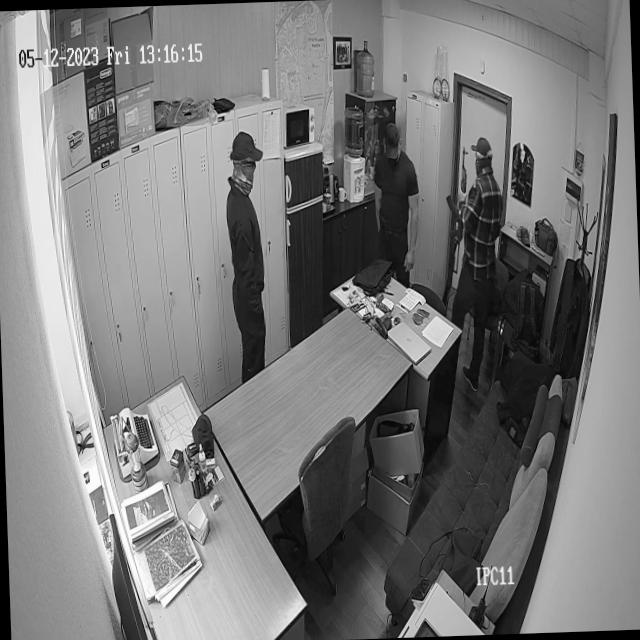gun: (446, 140, 473, 281)
person: (227, 124, 264, 389), (372, 118, 422, 277)
person with a gun: (446, 128, 514, 408)
